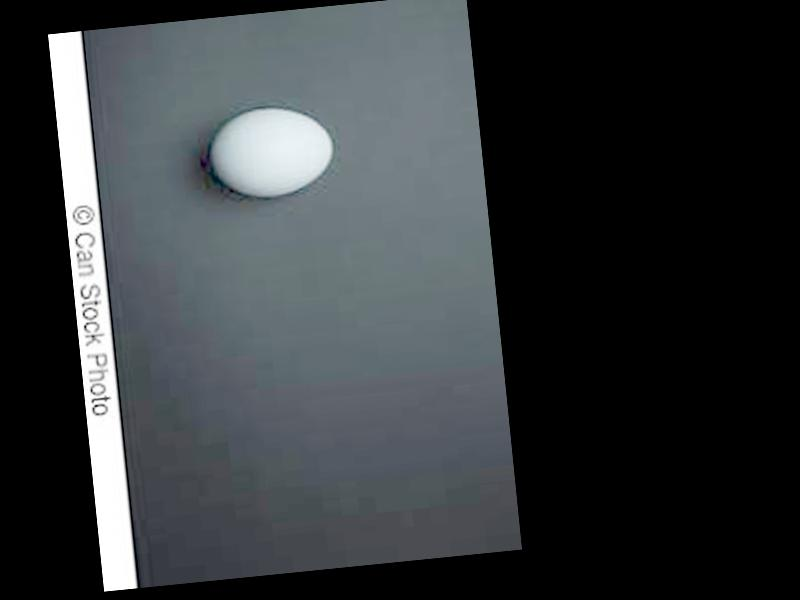Eggs: (207, 100, 337, 201)
